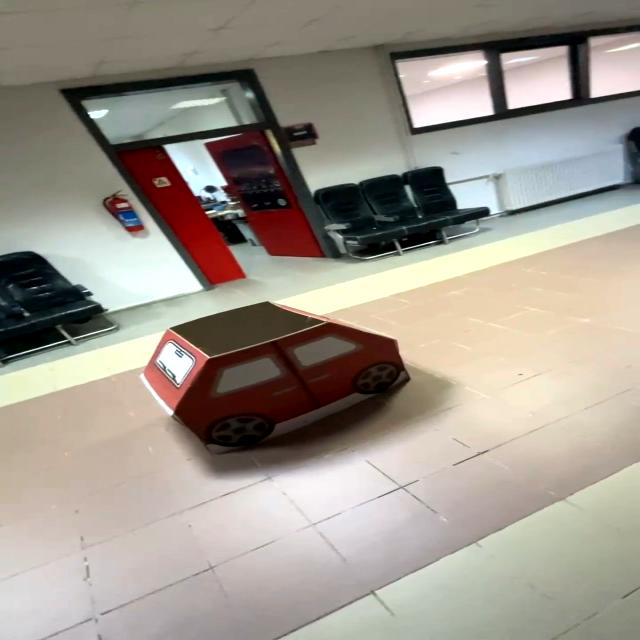red_car: (141, 278, 437, 457)
